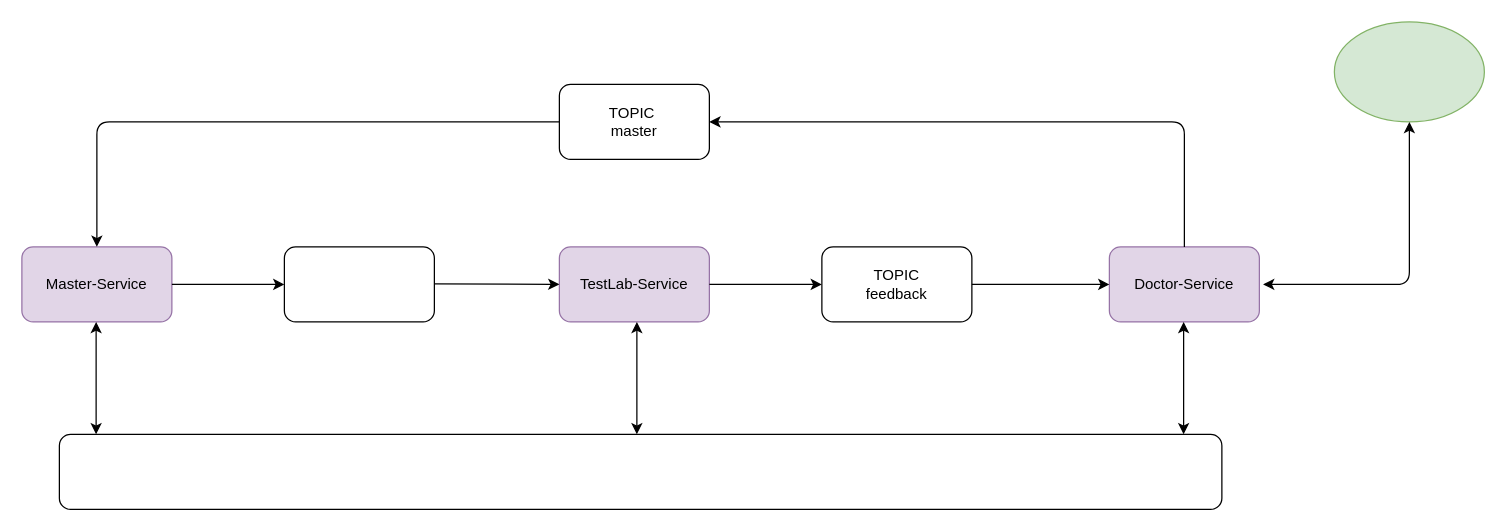
Image size: 1506x531. Some labels were removed from this diagram. The centre of each missing label's shape, as x and y in pixels:
"Serverless MedicineService" goes at (x=1408, y=71).
"TOPIC collector" goes at (x=358, y=284).
"User Operations" goes at (x=640, y=471).
